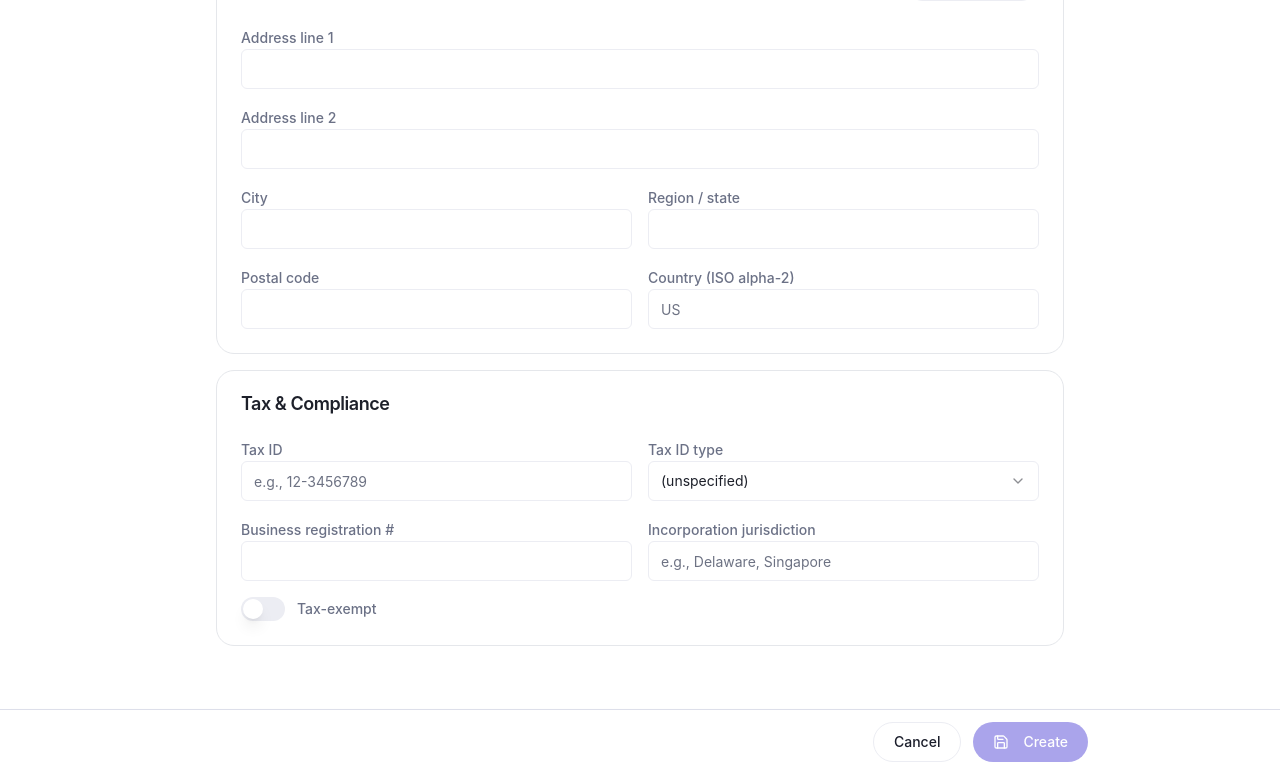
it: KAN-937 — CompanyForm › (8) isTaxExempt=true → taxExemptionCertificate field IS rendered
(page scrolled)
Click the switch named "tax-exempt".
click(263, 609)  # box [241, 597, 285, 621]
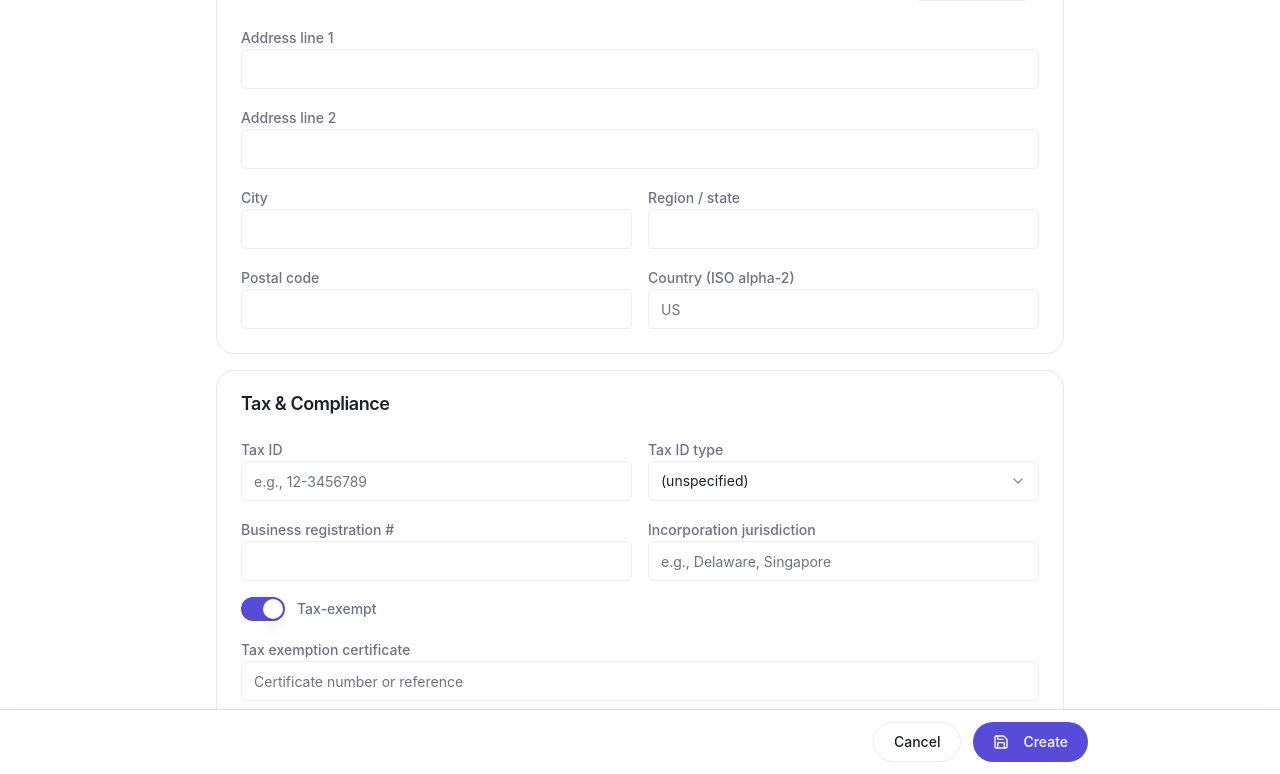
Expected: the field labelled "Tax exemption certificate" is shown, [241, 661, 1039, 701]
